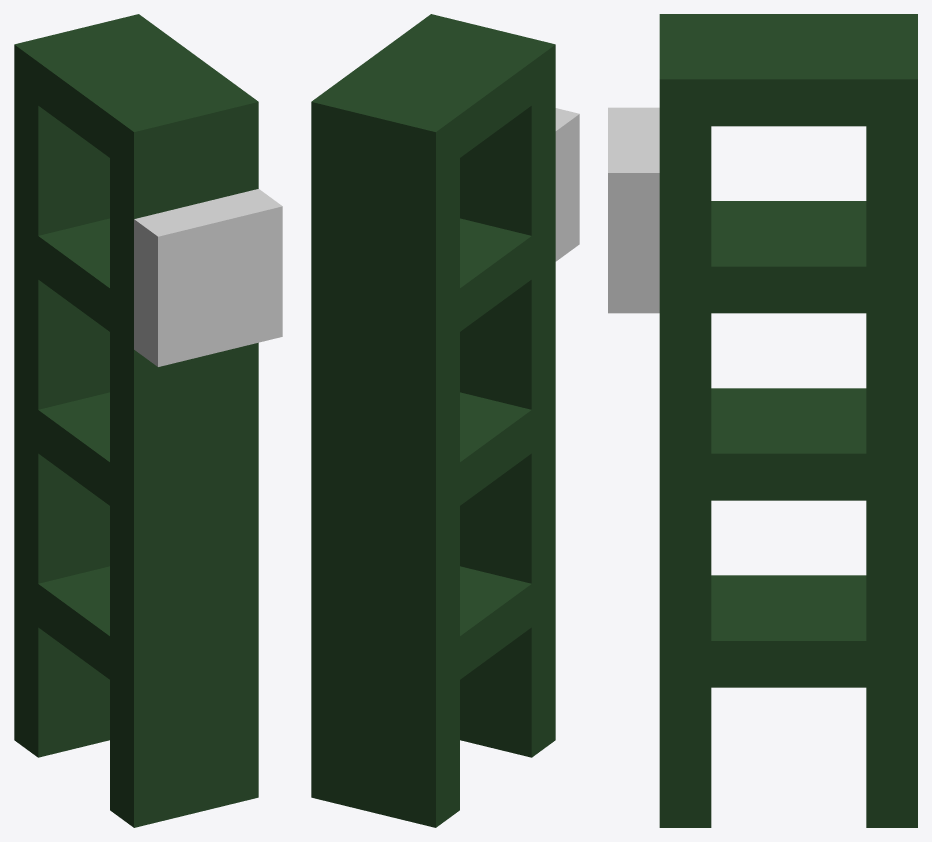
Rendered from hauptsignal_schild.obj.
3 renders of one model, left to right at view 1: azimuth 30°, elevation 25°; view 2: azimuth 150°, elevation 25°; view 3: azimuth 270°, elevation 25°, orthographic. The views are drawn at different scales.
Parts seen in each view (by area): view 1: all; view 2: all; view 3: all.
Boxes of the visible parts, left/top/right/bottom form: all: left=14, top=14, right=282, bottom=827; all: left=311, top=14, right=579, bottom=827; all: left=608, top=14, right=917, bottom=827.
Size of the model in its own units: 0.3 by 1.6 by 0.6.
1 material, 1 textured.
